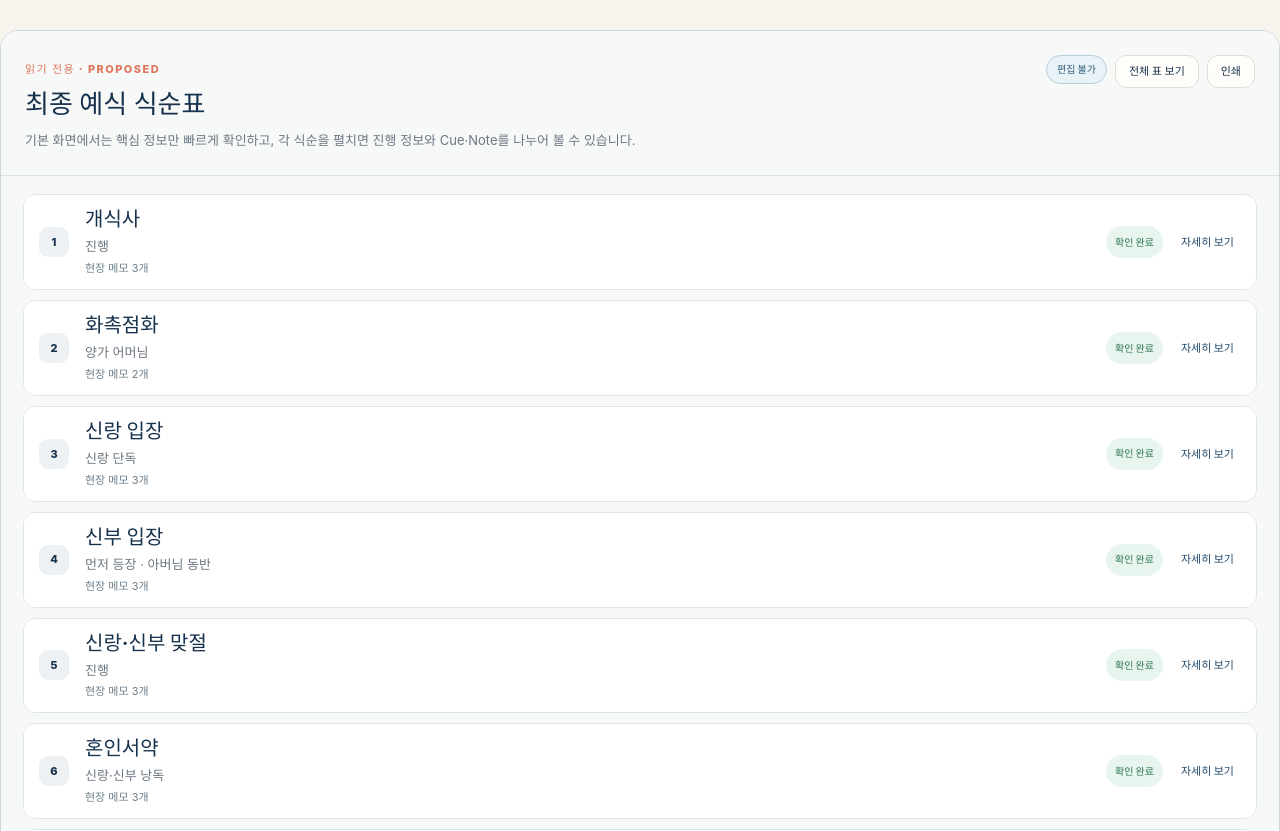
Test case: FinalCeremonySheet › active=false 입력 데이터와 원본 Draft를 변경하지 않는다
This screenshot has width=1280, height=831.
Click the button "전체 표 보기". click: (1157, 71)
box: [1115, 55, 1199, 88]
(page scrolled)
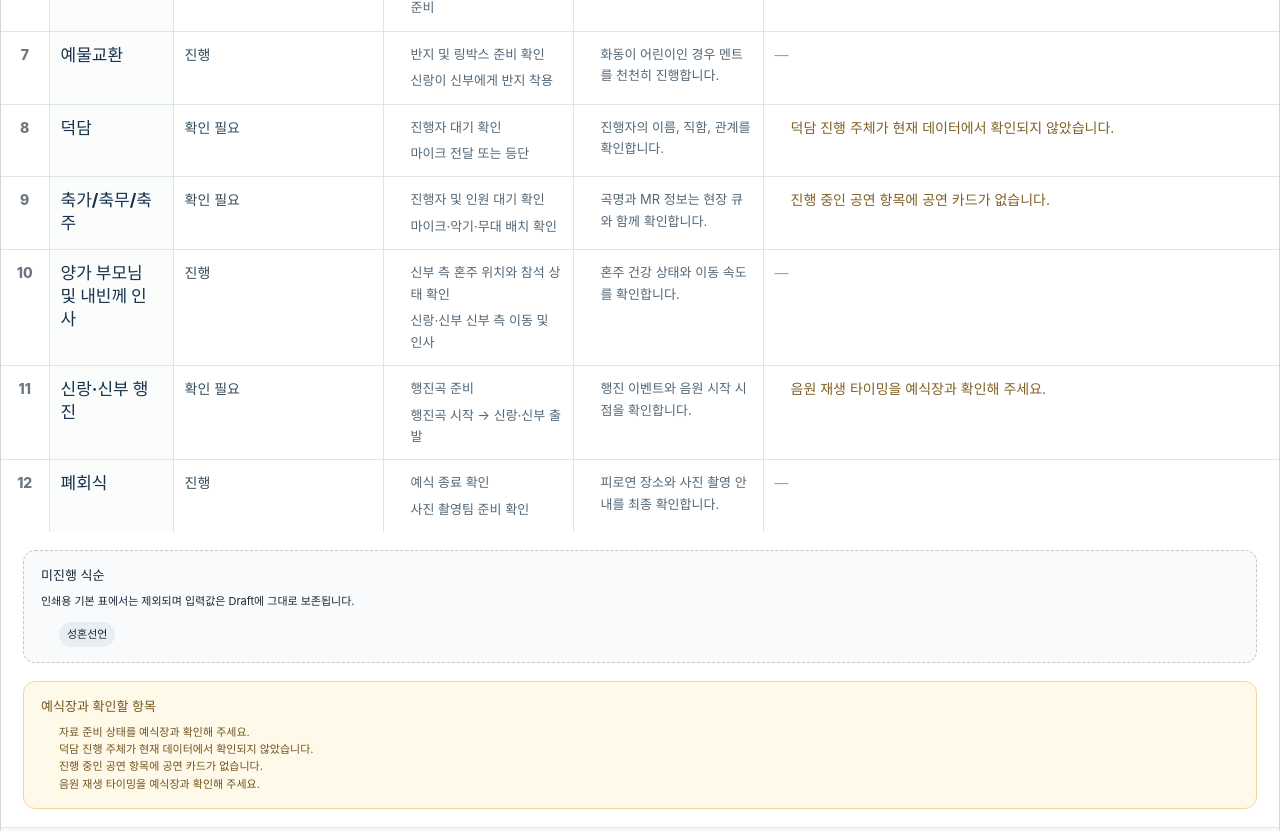
Check: the element "미진행 식순" is shown, box [23, 550, 1257, 663]
Check: the list item "성혼선언" is shown, box [59, 622, 116, 647]
